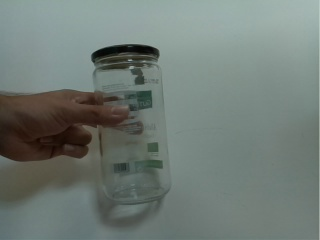pote cristal: (85, 42, 177, 206)
